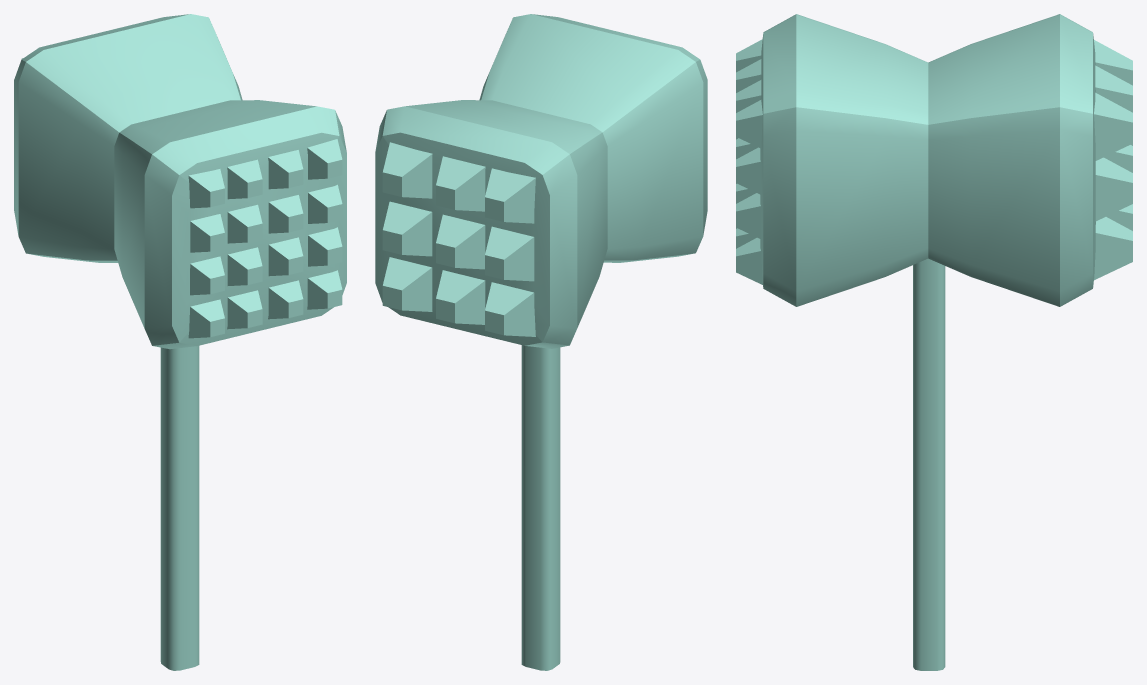
Rendered from Chop_Hammer.fbx.
3 views of the same model, side by side, from view 1: azimuth 30°, elevation 25°; view 2: azimuth 150°, elevation 25°; view 3: azimuth 270°, elevation 25° (orthographic). The views are drawn at different scales.
Visible parts, largest first — view 1: Chop_Hammer; view 2: Chop_Hammer; view 3: Chop_Hammer.
Part boxes in pixels (x1,y1,x2,y2): Chop_Hammer: (14, 14, 346, 670); Chop_Hammer: (375, 14, 707, 670); Chop_Hammer: (736, 14, 1132, 670).
Size of the model in its own units: 0.7769 by 2.2 by 1.29.
